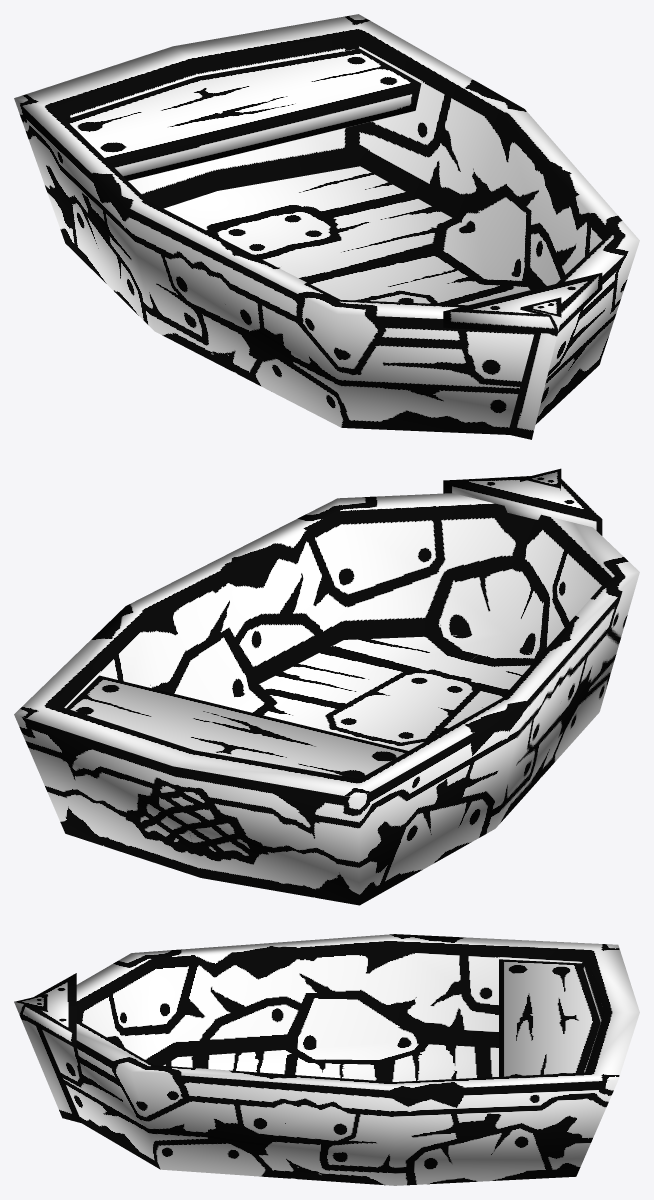
Rendered from ITEM01.fbx.
3 renders of one model, top to bottom at view 1: azimuth 30°, elevation 25°; view 2: azimuth 150°, elevation 25°; view 3: azimuth 270°, elevation 25°, orthographic. The views are drawn at different scales.
Visible parts, largest first — view 1: Item_01.001; view 2: Item_01.001; view 3: Item_01.001.
Part boxes in pixels (<box>): Item_01.001: <box>14,14,639,439</box>; Item_01.001: <box>14,468,639,905</box>; Item_01.001: <box>14,934,639,1185</box>.
Size of the model in its own units: 5.35 by 1.86 by 9.02.
1 material, 1 textured.
